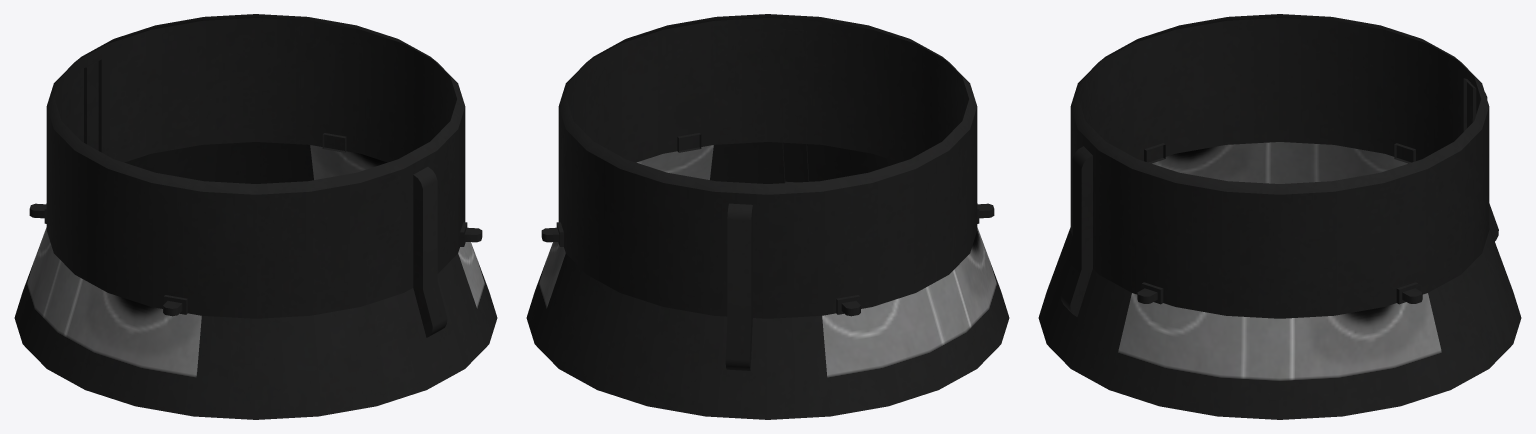
The model's file is service_module.fbx.
3 views of the same model, side by side, from view 1: azimuth 30°, elevation 25°; view 2: azimuth 150°, elevation 25°; view 3: azimuth 270°, elevation 25° (orthographic).
Parts seen in each view (by area): view 1: 1; view 2: 1; view 3: 1.
Part boxes in pixels (<box>): 1: <box>14,14,497,419</box>; 1: <box>526,14,1009,419</box>; 1: <box>1038,14,1521,419</box>.
Bounding box in the file's own units: 1.5 × 0.75 × 1.5.
